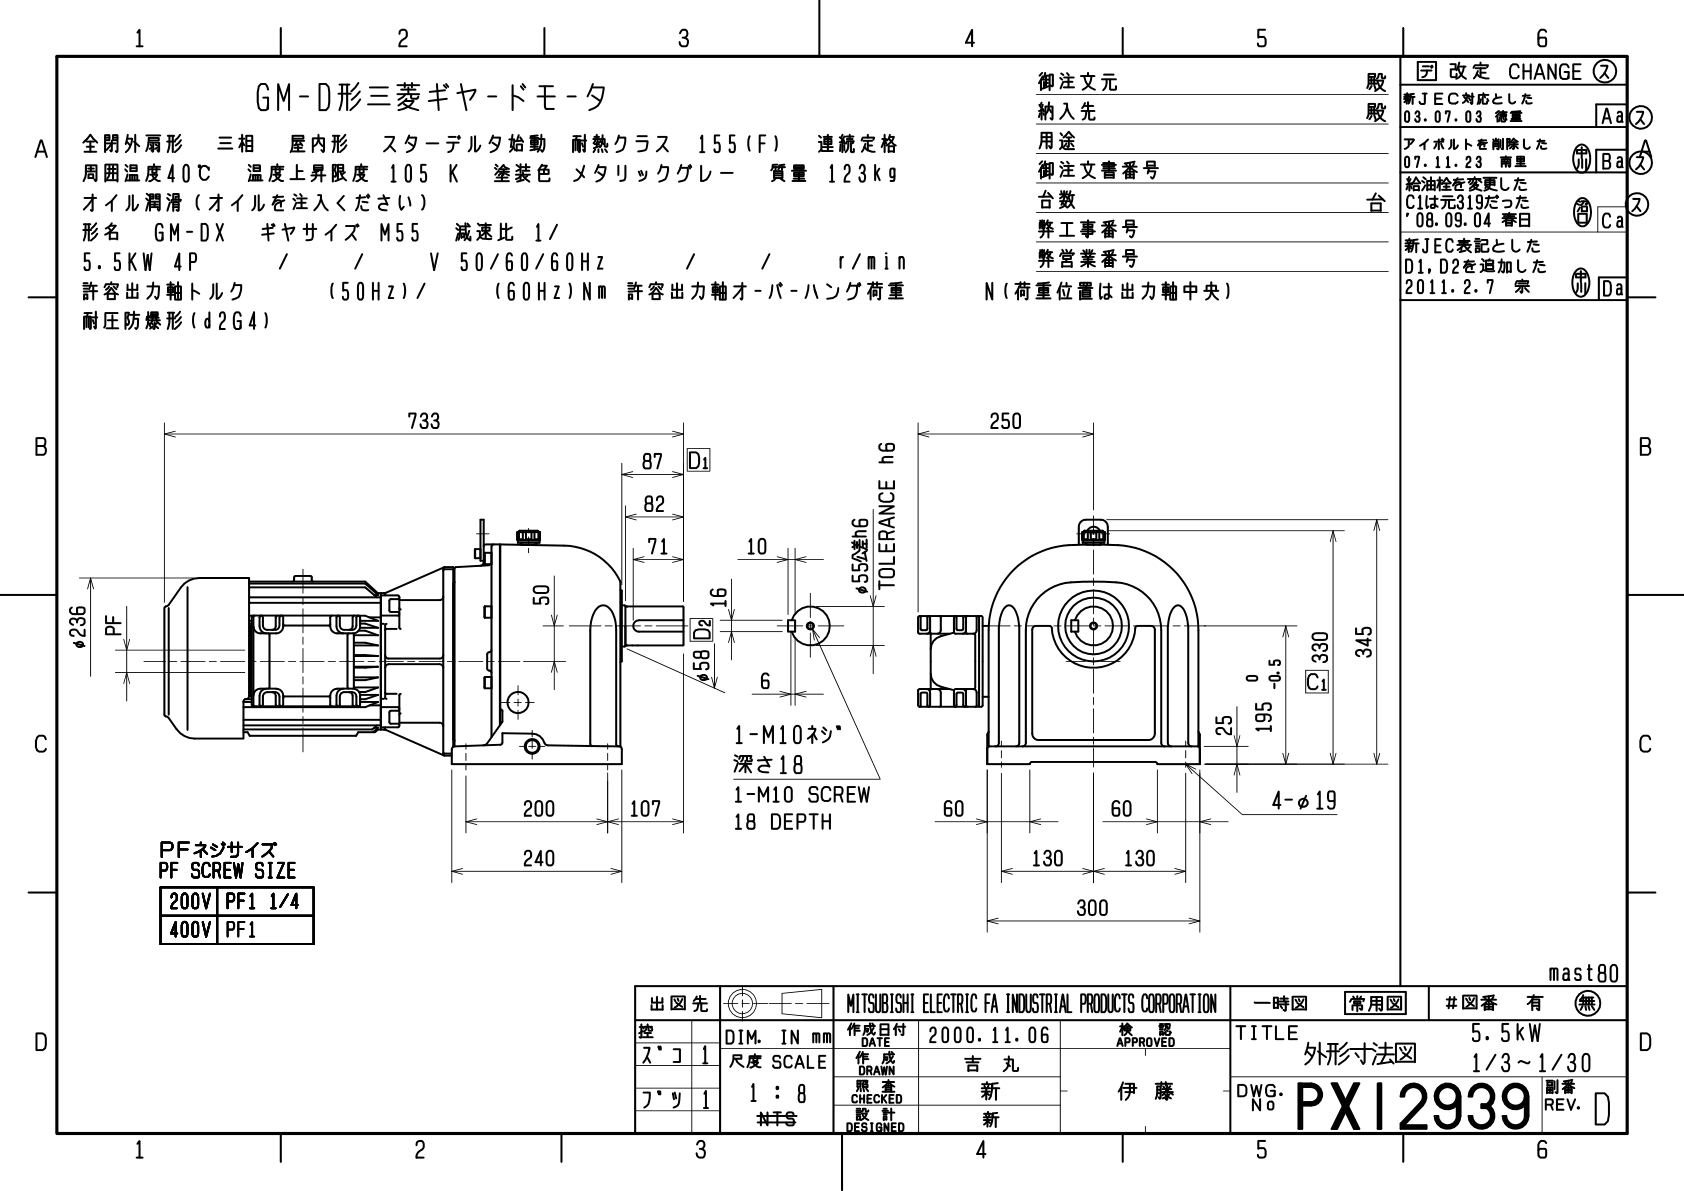GM_D_耐圧屋内_三相_脚: (63, 365, 1395, 956)
